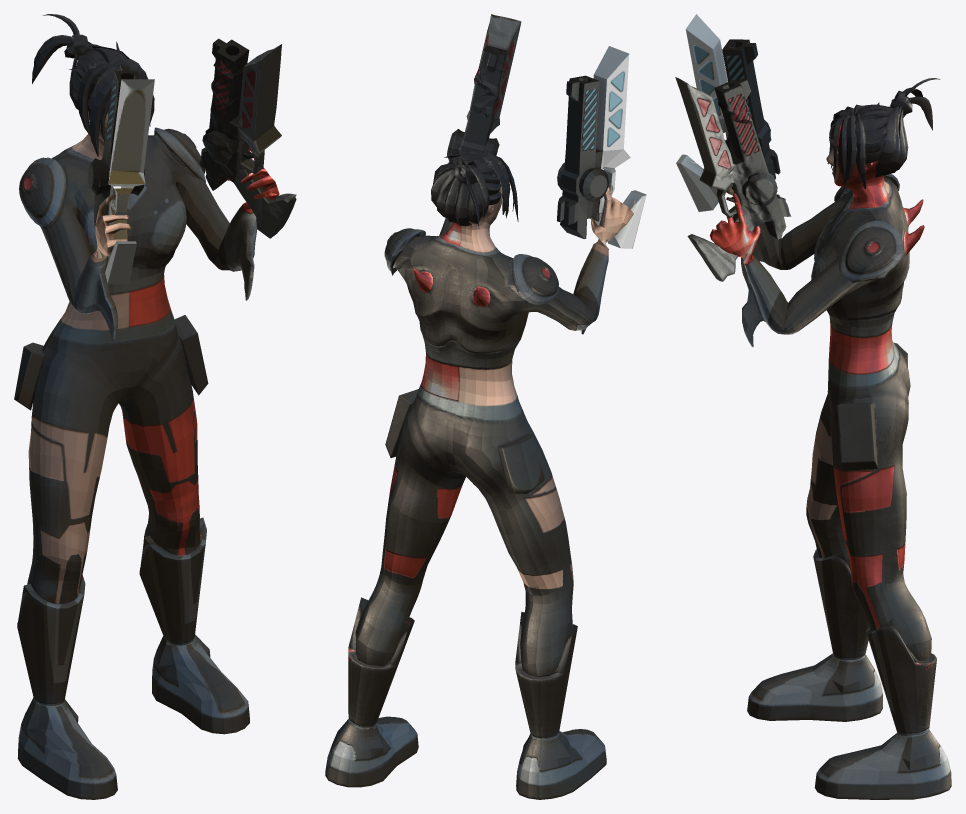
The picture shows the model from 3 angles, left to right: view 1: azimuth 30°, elevation 25°; view 2: azimuth 150°, elevation 25°; view 3: azimuth 270°, elevation 25°; orthographic projection. The views are drawn at different scales.
Parts seen in each view (by area): view 1: Dex_LOW_Plane.001; view 2: Dex_LOW_Plane.001; view 3: Dex_LOW_Plane.001.
Part boxes in pixels (left/top/right/bottom): Dex_LOW_Plane.001: left=14, top=14, right=296, bottom=799; Dex_LOW_Plane.001: left=325, top=14, right=646, bottom=799; Dex_LOW_Plane.001: left=675, top=14, right=951, bottom=799.
Size of the model in its own units: 1.63 by 5.08 by 1.83.
